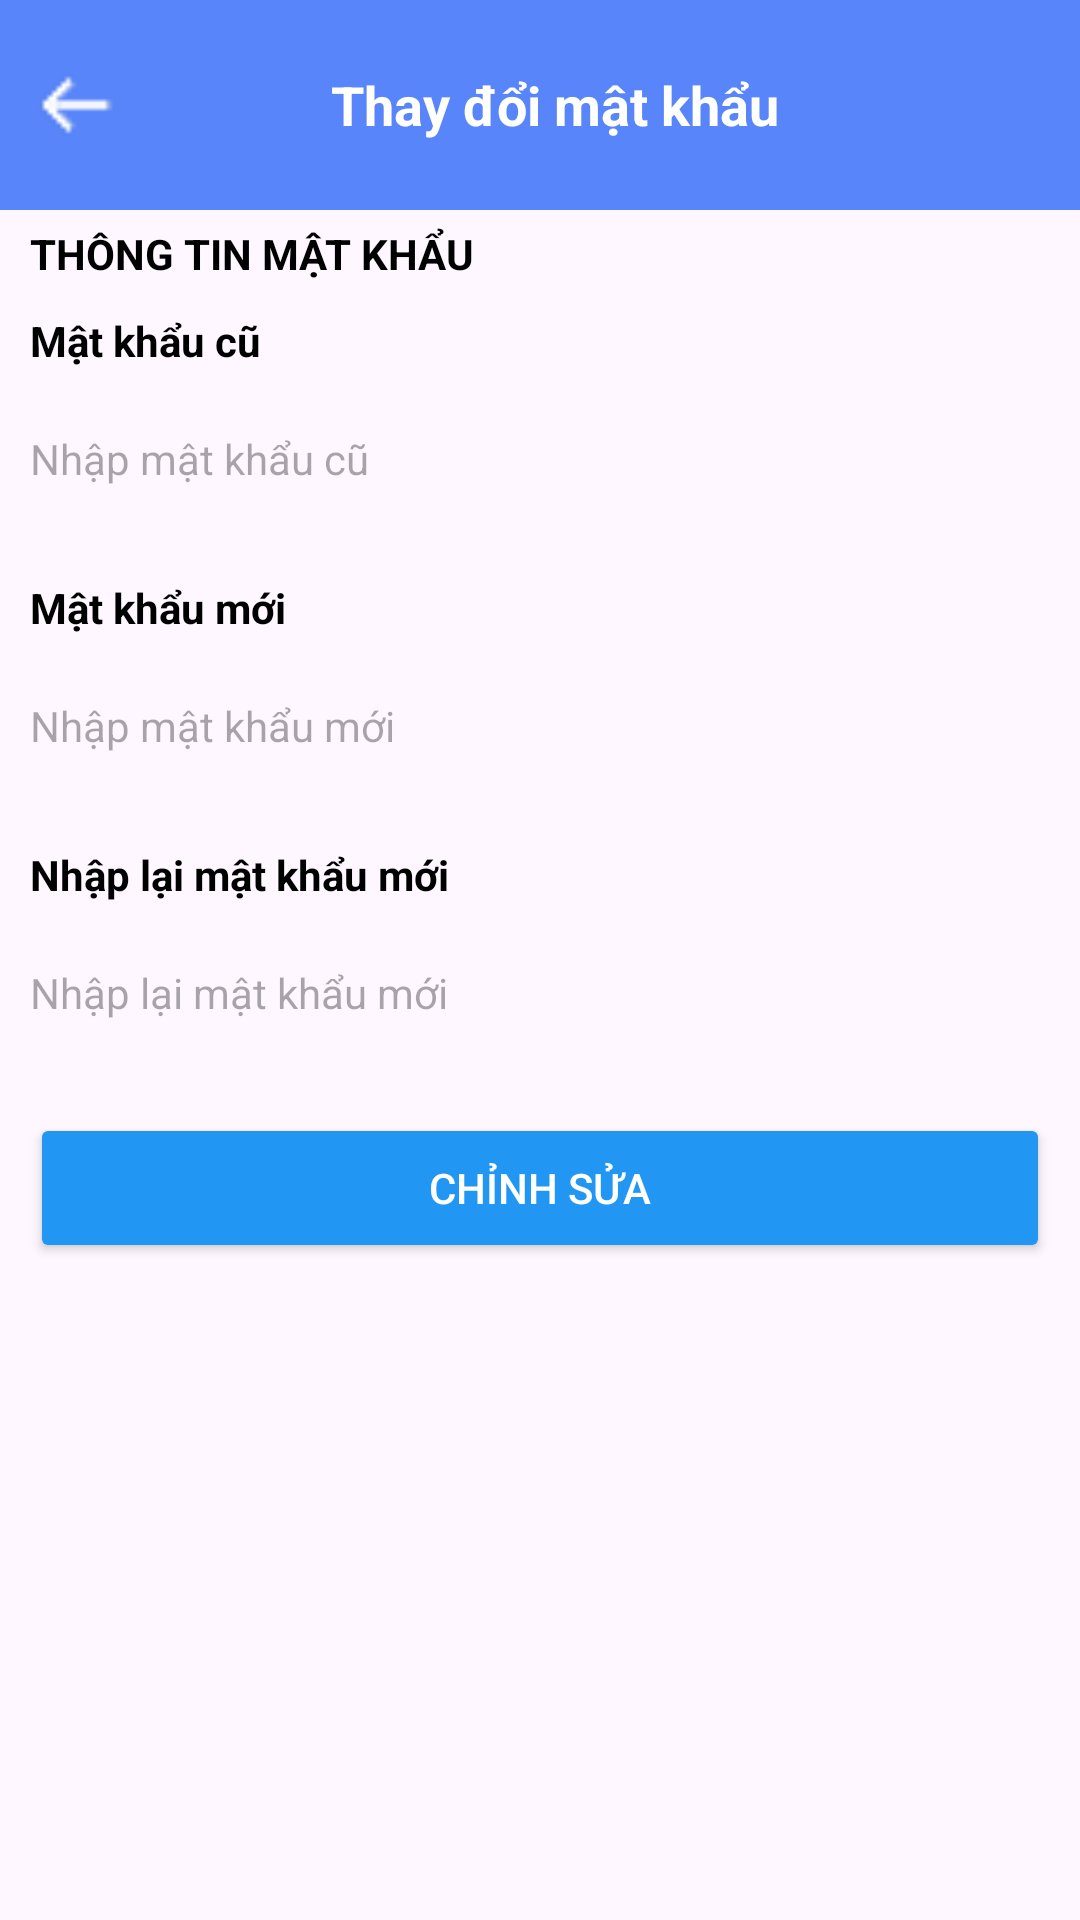

Icon click points for this 1080 × 1920 phone screenshot, format [x,y]:
left: [76,105]
